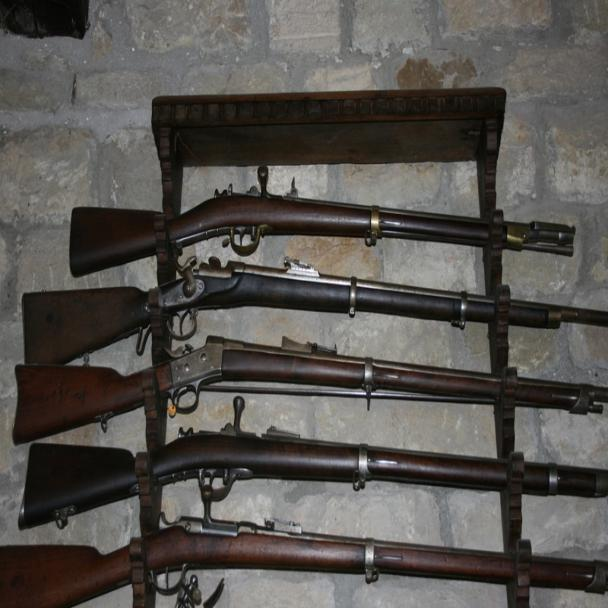Gun: (9, 420, 607, 529), (12, 337, 607, 442), (14, 254, 607, 356), (65, 171, 581, 284), (2, 512, 607, 607)
